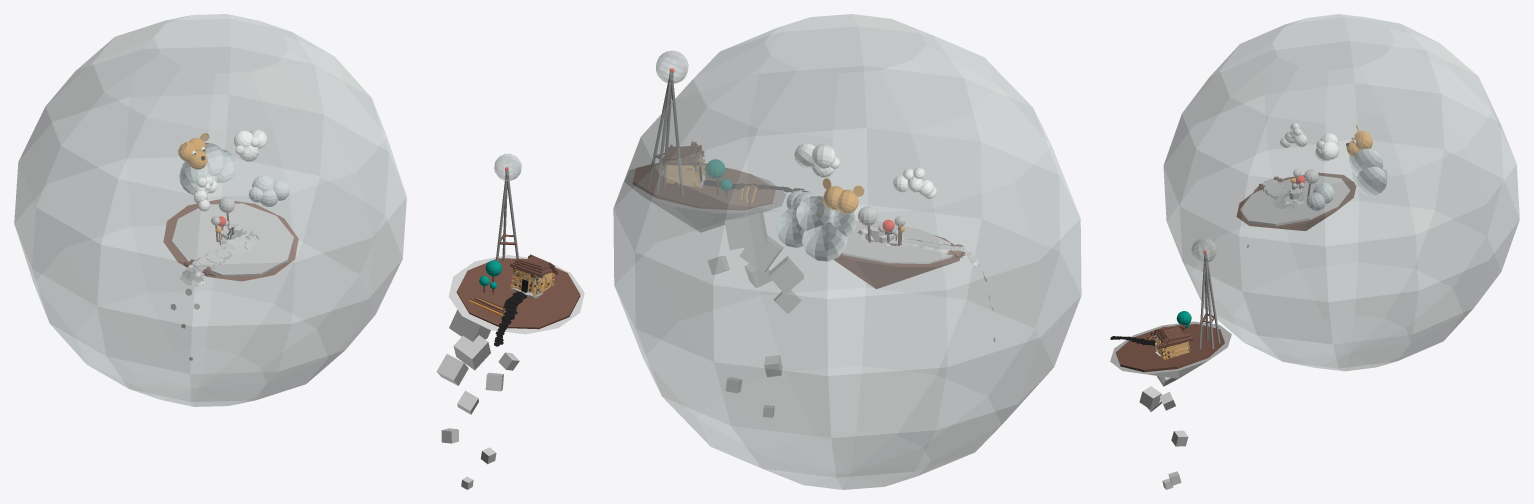
Rendered from islands.obj.
3 renders of one model, left to right at view 1: azimuth 30°, elevation 25°; view 2: azimuth 150°, elevation 25°; view 3: azimuth 270°, elevation 25°, orthographic. The views are drawn at different scales.
Parts seen in each view (by area): view 1: group1229310014, group1928034374, group373103102, group482010252, group1621444953, group1159675693, group463886691, group565186874, group1568969577; view 2: group1229310014, group373103102, group1928034374, group482010252, group1621444953, group1064826286, group463886691, group1124405418, group1568969577, group1159675693, group304875880, group565186874; view 3: group1229310014, group373103102, group1928034374, group482010252, group1621444953, group304875880, group1124405418, group1568969577.
Part boxes in pixels (x1,y1,x2,y2): group1229310014: [14, 14, 406, 406]; group1928034374: [172, 203, 293, 276]; group373103102: [456, 258, 580, 329]; group482010252: [448, 255, 584, 334]; group1621444953: [163, 199, 298, 281]; group1159675693: [453, 335, 490, 370]; group463886691: [449, 310, 490, 341]; group565186874: [436, 354, 468, 385]; group1568969577: [494, 153, 521, 180]; group1229310014: [613, 14, 1081, 489]; group373103102: [633, 163, 775, 210]; group1928034374: [841, 220, 952, 263]; group482010252: [624, 163, 785, 232]; group1621444953: [833, 235, 960, 288]; group1064826286: [802, 222, 847, 261]; group463886691: [724, 212, 767, 249]; group1124405418: [796, 196, 832, 231]; group1568969577: [656, 50, 688, 83]; group1159675693: [739, 235, 783, 273]; group304875880: [776, 208, 803, 247]; group565186874: [769, 256, 803, 294]; group1229310014: [1163, 14, 1519, 371]; group373103102: [1116, 324, 1224, 372]; group1928034374: [1240, 175, 1349, 226]; group482010252: [1110, 321, 1231, 378]; group1621444953: [1236, 172, 1356, 230]; group304875880: [1356, 166, 1386, 195]; group1124405418: [1351, 148, 1382, 176]; group1568969577: [1191, 238, 1216, 263].
Size of the model in its own units: 4.91 by 4.54 by 4.35.
